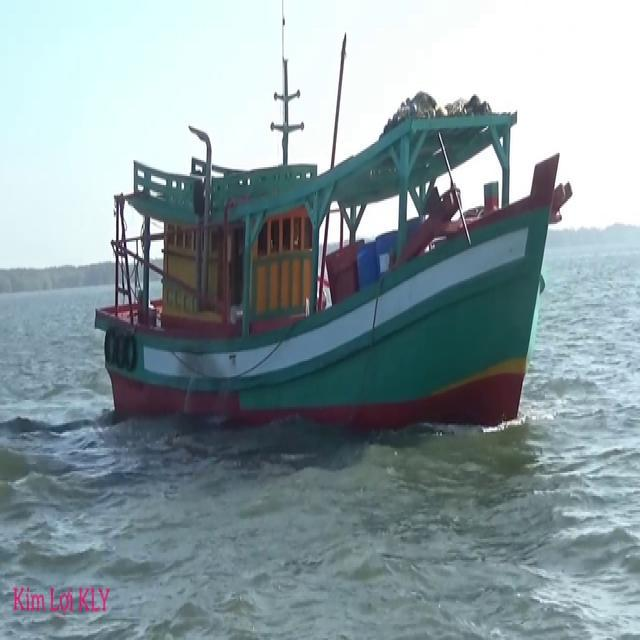Ship: (90, 96, 565, 445)
